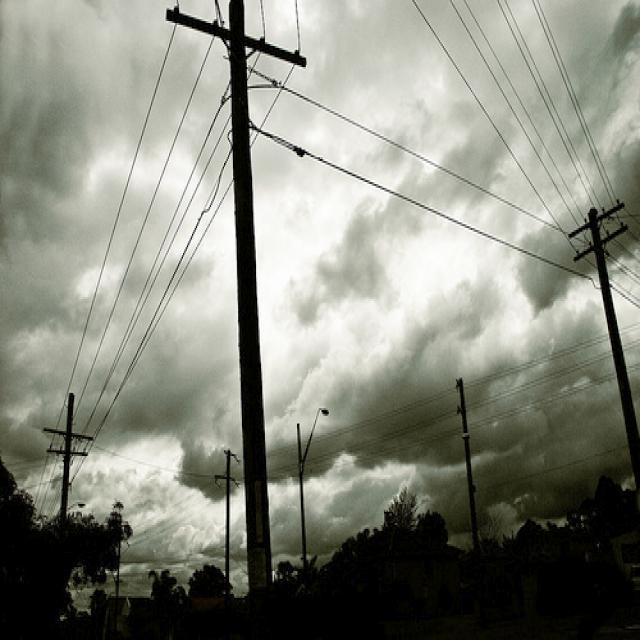crossarm: (166, 6, 307, 70), (571, 223, 631, 270), (571, 199, 627, 238)
pole: (227, 0, 274, 602), (588, 209, 640, 483)
wire: (249, 62, 587, 244), (70, 44, 209, 421), (83, 73, 228, 422), (76, 145, 232, 468), (258, 131, 584, 279), (79, 127, 230, 434), (60, 35, 174, 416), (414, 1, 564, 231), (449, 1, 583, 239), (463, 0, 589, 221), (502, 1, 607, 214), (530, 0, 625, 213), (523, 58, 600, 219)
